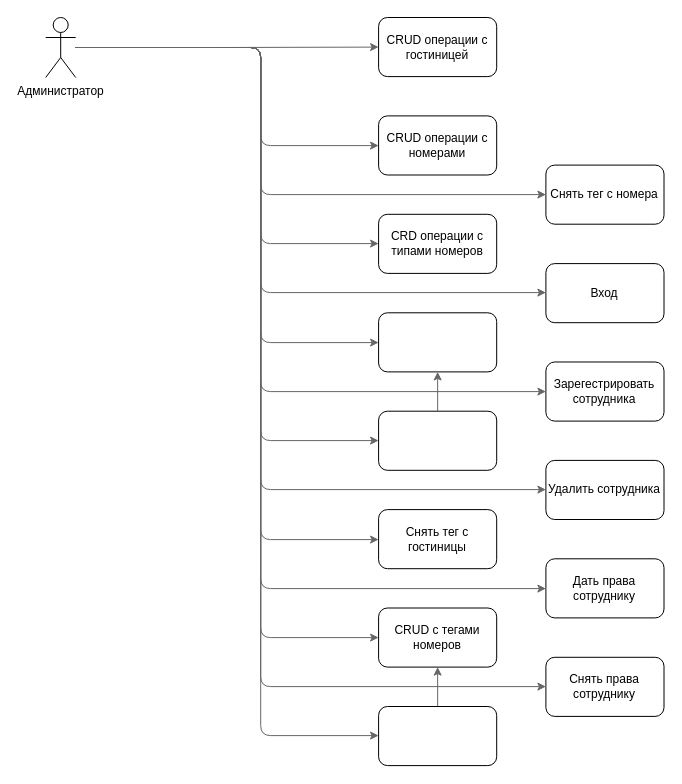
The diagram is 682 pixels wide and 784 high, and some of its shapes have lost their labels. Here are the shapes that lost their labels. From the top down, the box of each, then its label:
(378, 312, 497, 372): CURD операции с тегами гостиниц
(378, 410, 497, 470): Назначить гостинице тег
(378, 706, 497, 766): Назначить тег номеру
